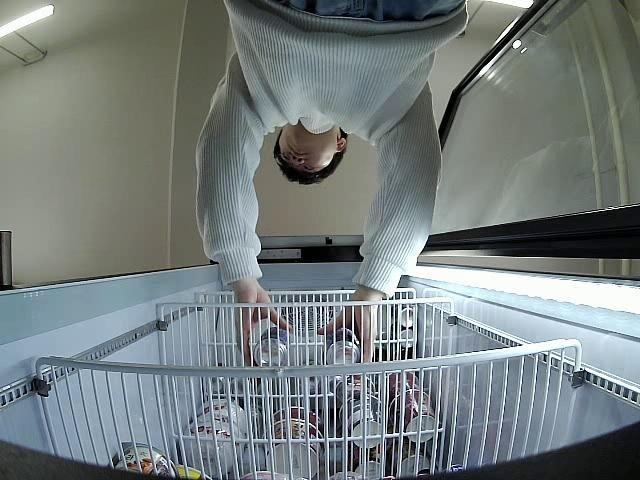14_welchsGrape: (253, 323, 292, 369), (324, 327, 362, 364)
